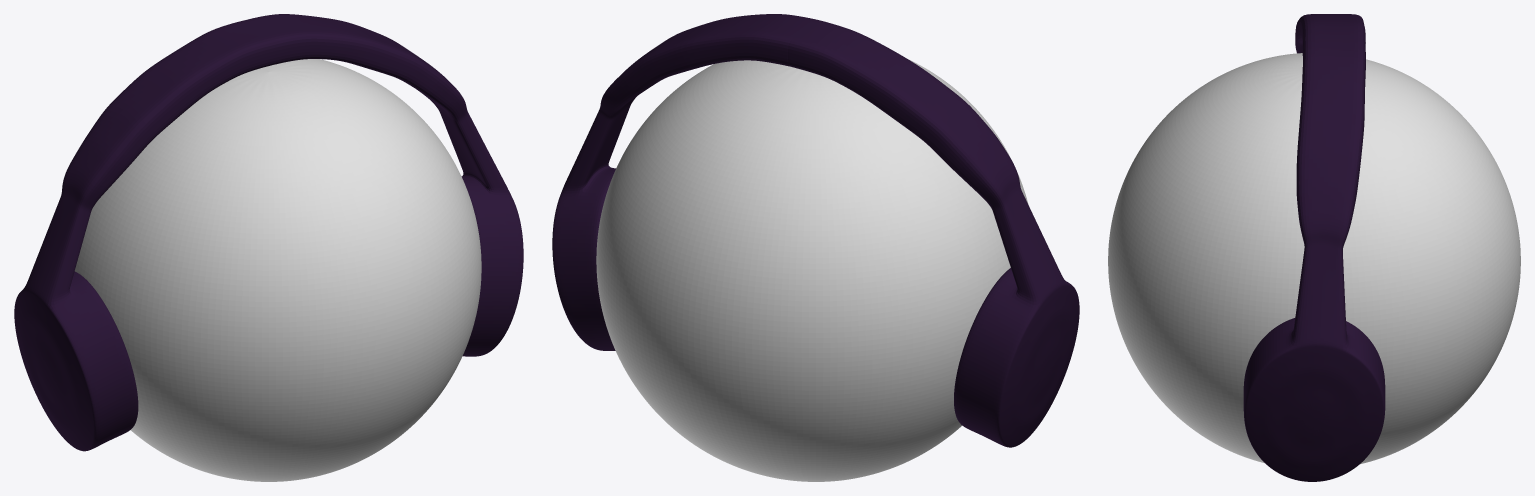
File: Head.fbx
The picture shows the model from 3 angles, left to right: view 1: azimuth 30°, elevation 25°; view 2: azimuth 150°, elevation 25°; view 3: azimuth 270°, elevation 25°; orthographic projection. The views are drawn at different scales.
Parts seen in each view (by area): view 1: Head, Cylinder; view 2: Head, Cylinder; view 3: Head, Cylinder.
Part boxes in pixels (x1=…): Head: x1=74, y1=59, x2=481, y2=481; Cylinder: x1=14, y1=14, x2=523, y2=451; Head: x1=596, y1=59, x2=1028, y2=481; Cylinder: x1=552, y1=14, x2=1079, y2=447; Head: x1=1108, y1=53, x2=1520, y2=464; Cylinder: x1=1243, y1=14, x2=1385, y2=481.
Size of the model in its own units: 494 by 433 by 391.
